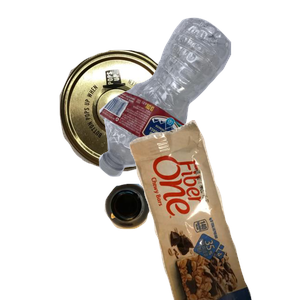glass: (102, 181, 246, 300)
metal: (57, 47, 227, 211)
plastic: (96, 15, 300, 184)
trash: (127, 120, 300, 300)
